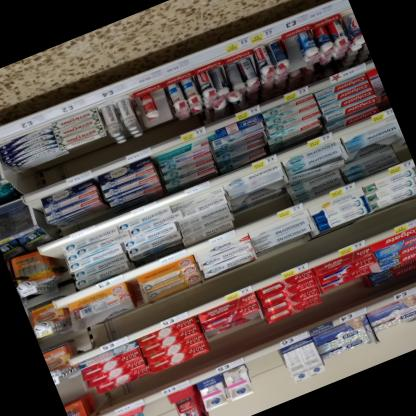empty_space: (243, 347, 292, 397), (141, 392, 180, 416)
